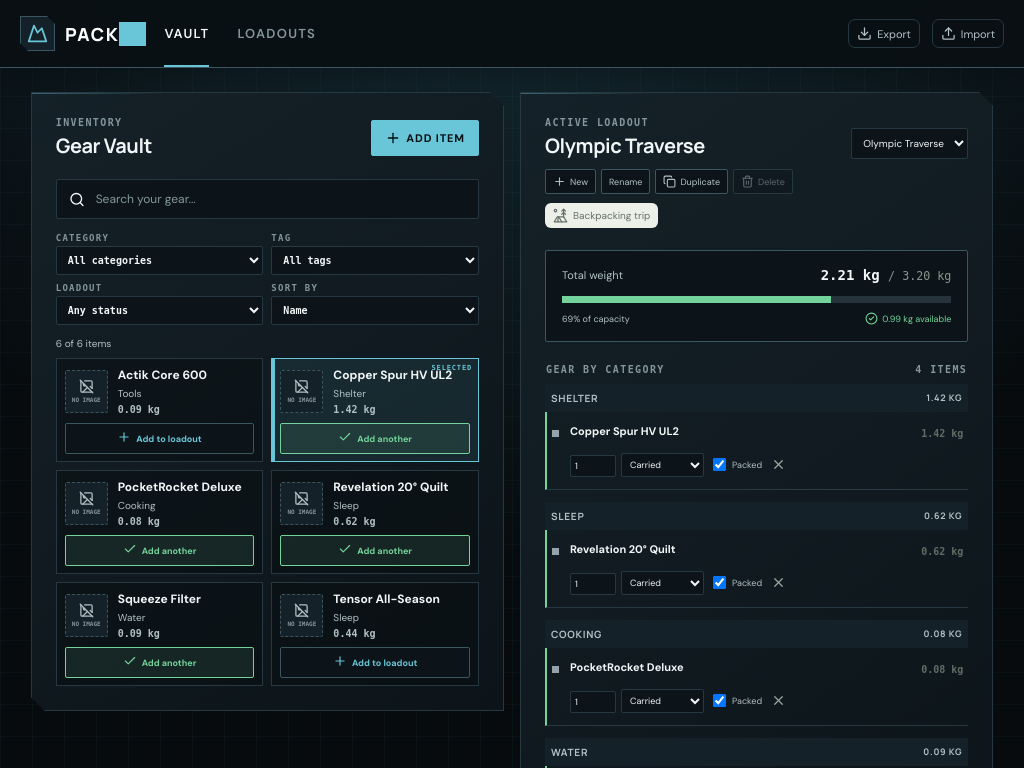
Test: PackDB shell › increments an existing loadout entry instead of duplicating it
The width and height of the screenshot is (1024, 768).
What coordinates should you click on to do the following:
click the button named "Add Copper Spur HV UL2 to active loadout; increments quantity"
I would click on:
 (375, 438)
Its box is 280,423 -> 470,454.
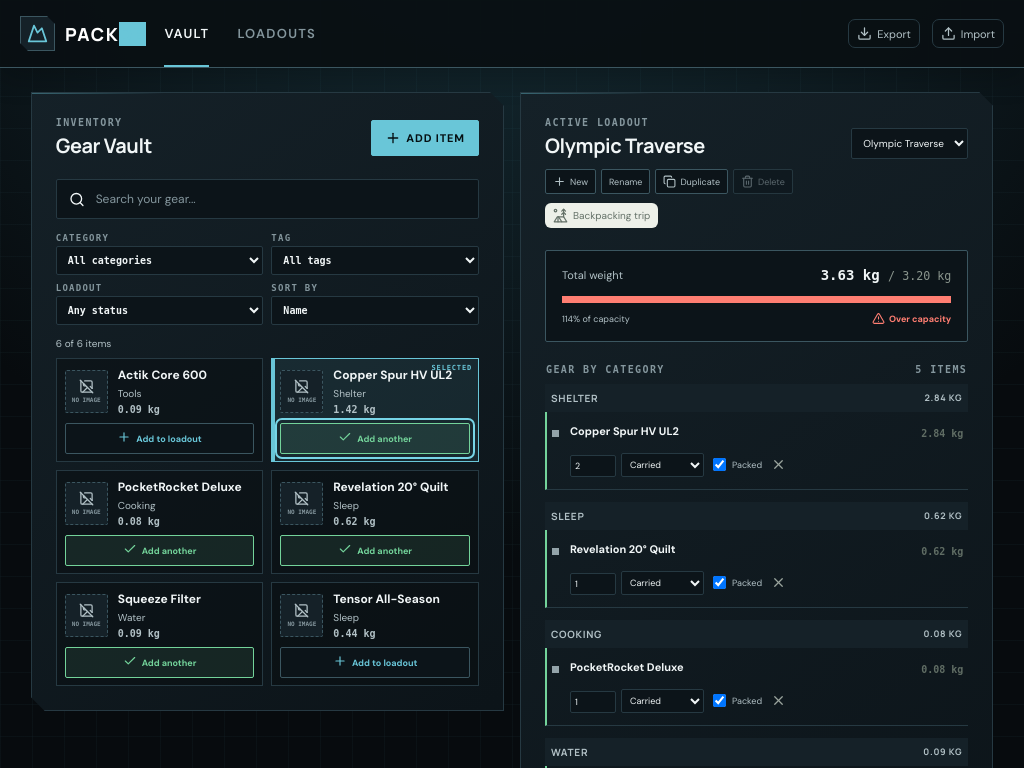
expect the 1st number field named "Quantity for Copper Spur HV UL2" holds "2": met, box 570,454 -> 616,476
